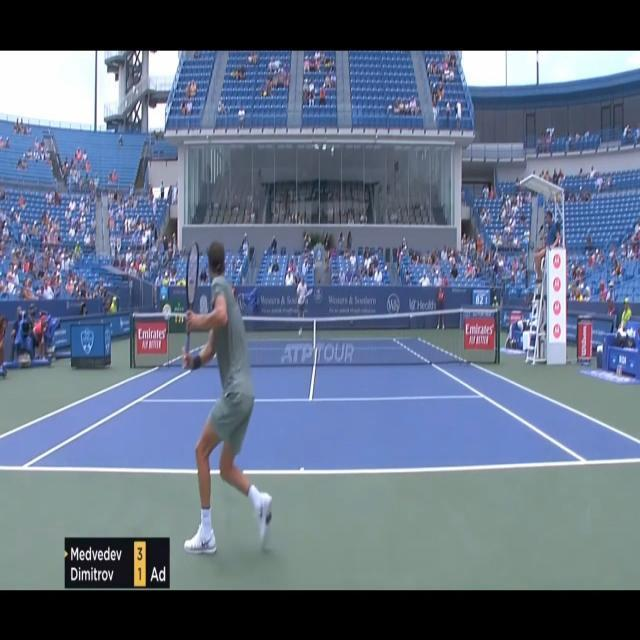court: (0, 338, 640, 476)
net: (128, 304, 502, 376)
player: (184, 239, 274, 556)
